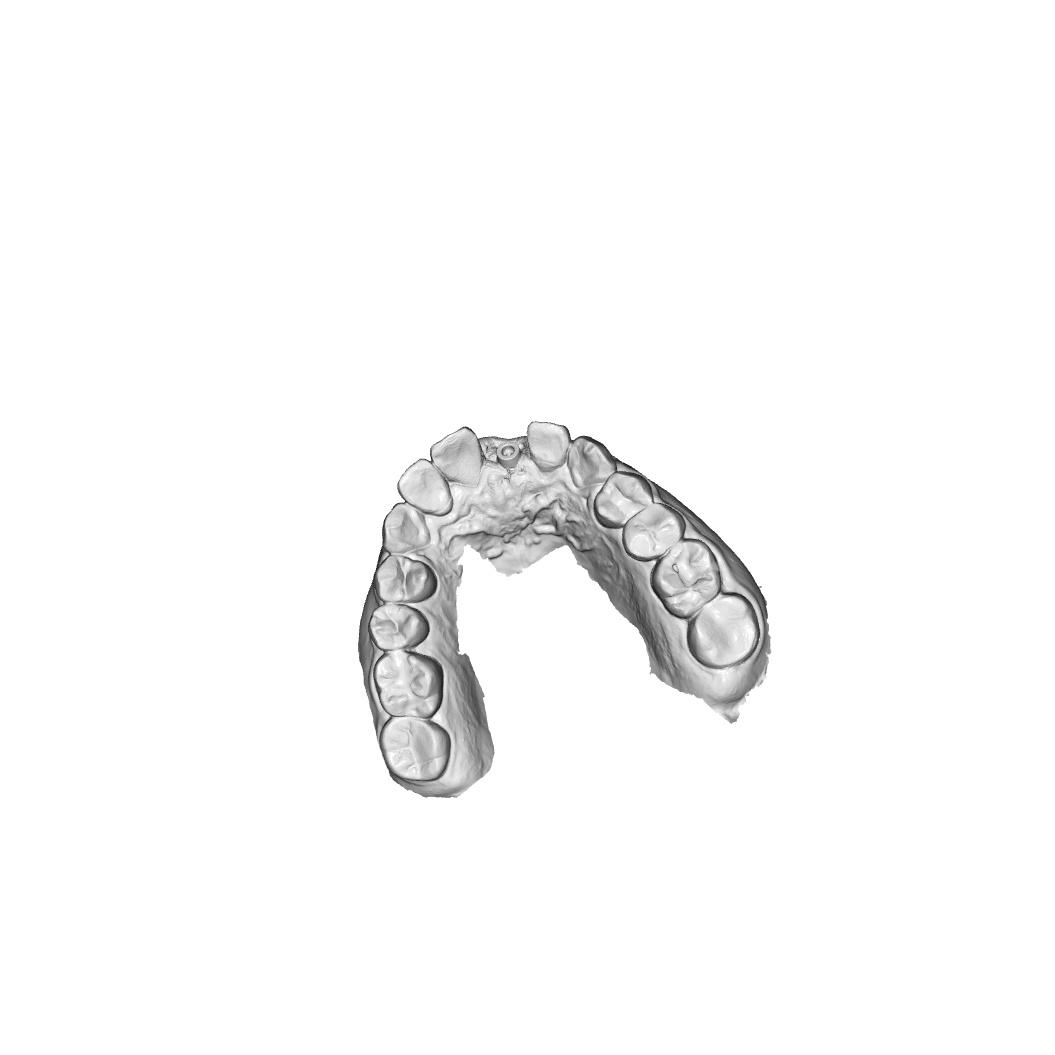canine: (567, 435, 618, 490), (381, 502, 433, 554)
implant: (495, 442, 522, 469)
incisor: (428, 425, 485, 486), (397, 458, 454, 517), (526, 420, 571, 473)
molar: (649, 537, 722, 619), (686, 591, 761, 670), (371, 650, 444, 719), (379, 716, 452, 782)
premolar: (620, 502, 686, 562), (593, 470, 654, 530), (373, 555, 438, 603), (367, 603, 430, 652)
